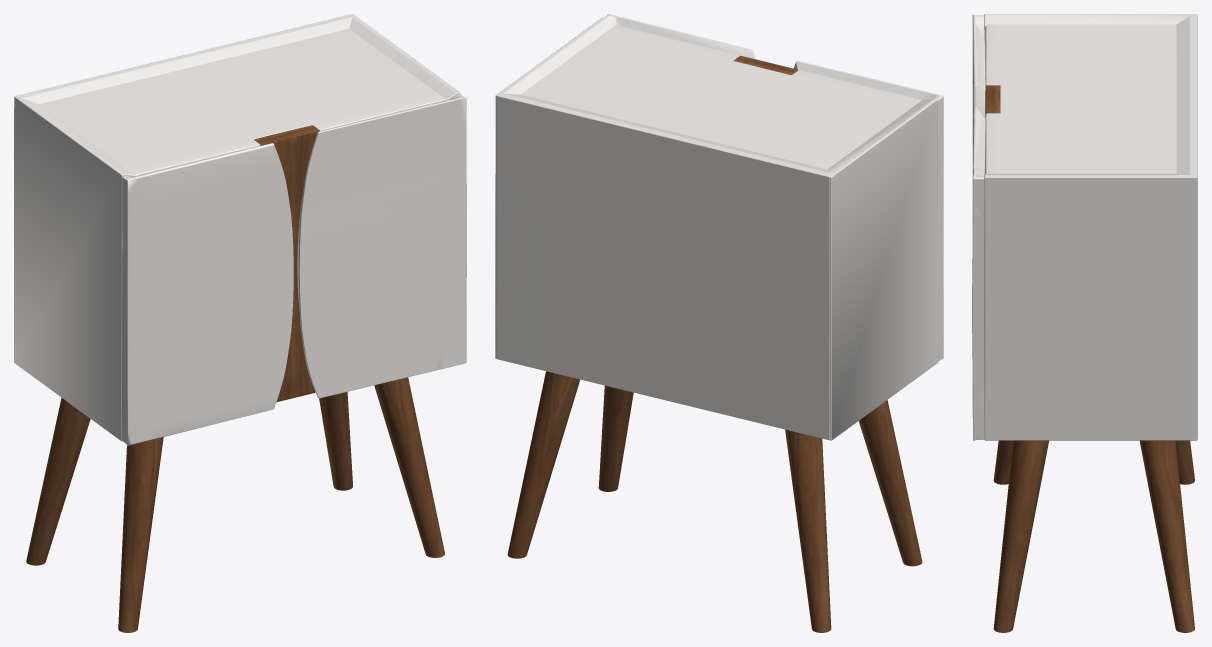
The picture shows the model from 3 angles, left to right: view 1: azimuth 30°, elevation 25°; view 2: azimuth 150°, elevation 25°; view 3: azimuth 270°, elevation 25°; orthographic projection.
Parts seen in each view (by area): view 1: RootNode; view 2: RootNode; view 3: RootNode.
Part boxes in pixels (bbox=[...]): RootNode: bbox=[14, 14, 466, 632]; RootNode: bbox=[495, 14, 943, 632]; RootNode: bbox=[972, 14, 1197, 632].
Size of the model in its own units: 0.5905 by 0.7716 by 0.3438.
1 material, 1 textured.
